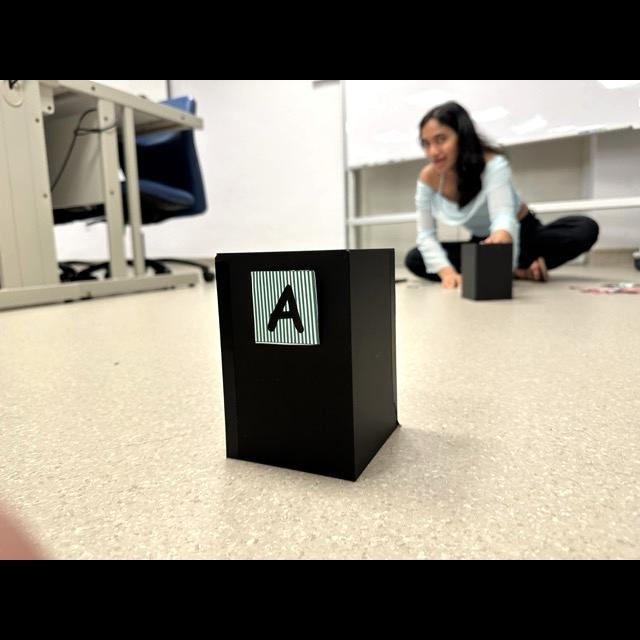A: (267, 284, 301, 333)
